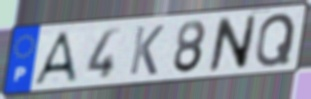4: (84, 26, 119, 81)
8: (170, 19, 208, 76)
A: (31, 30, 80, 88)
K: (127, 24, 166, 77)
N: (206, 14, 259, 74)
Q: (253, 11, 298, 70)
